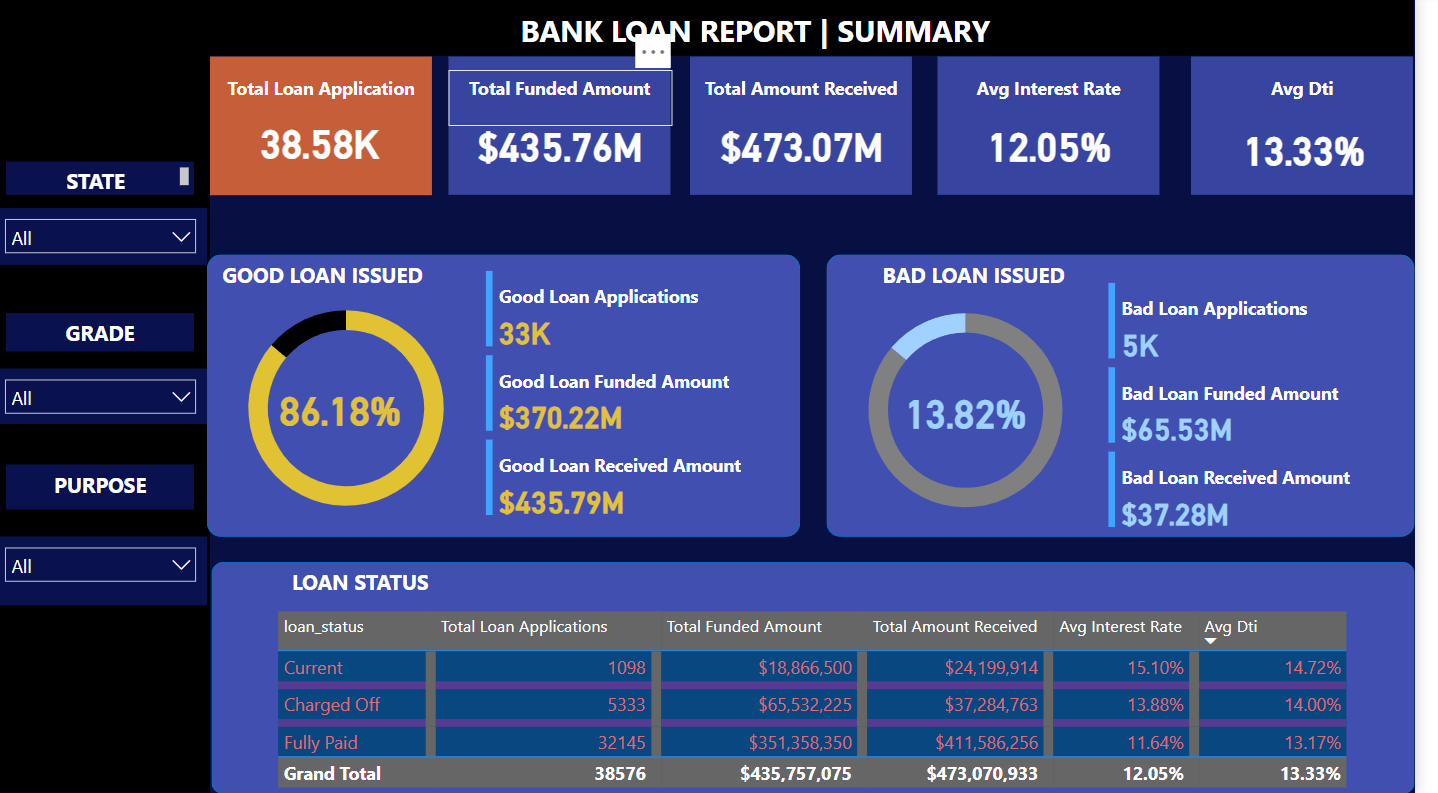

This screenshot's page, from the dashboard's own definition file:
{"tool":"powerbi","page":{"name":"Summary","canvas":[1280,720],"ordinal":0},"visuals":[{"type":"shape","box":[0,0,1279.4,54.8],"z":0},{"type":"shape","box":[3,53,192.3,666.3],"z":1000},{"type":"textbox","box":[453.5,7.6,463,47.2],"z":2000},{"type":"shape","box":[194.6,54.8,200,125],"z":3000},{"type":"card","fields":{"Values":["financial_loan (1).Total Loan Application"]},"box":[151.2,96.4,283.5,69.9],"z":4000},{"type":"textbox","box":[194.6,68,200.3,49.1],"z":5000},{"type":"shape","box":[410.1,54.8,200.3,124.7],"z":6000},{"type":"shape","box":[627.4,54.8,200.3,124.7],"z":7000},{"type":"shape","box":[850.4,54.8,200.3,124.7],"z":8000},{"type":"shape","box":[1079.1,54.8,200.3,124.7],"z":9000},{"type":"card","fields":{"Values":["financial_loan (1).Total Funded Amount"]},"box":[410.1,98.3,200.3,69.9],"z":10000},{"type":"card","fields":{"Values":["financial_loan (1).Total Amount Received"]},"box":[627.4,98.3,200.3,69.9],"z":11000},{"type":"card","fields":{"Values":["financial_loan (1).Avg Interest Rate"]},"box":[850.4,98.3,200.3,69.9],"z":12000},{"type":"card","fields":{"Values":["financial_loan (1).Avg Dti"]},"box":[1079.6,103,199.9,69.7],"z":13000},{"type":"textbox","box":[410.1,68,200.3,49.1],"z":14000},{"type":"textbox","box":[627.4,68,200.3,49.1],"z":15000},{"type":"textbox","box":[850.4,68,200.3,49.1],"z":16000},{"type":"textbox","box":[1079.1,68,200.3,49.1],"z":17000},{"type":"shape","box":[192.3,233.2,534.5,254.4],"z":18000},{"type":"shape","box":[749.5,233.2,530,254.4],"z":19000},{"type":"donutChart","fields":{"Category":["financial_loan (1).Good vs Bad Loan"],"Y":["financial_loan (1).Total Loan Applications"]},"box":[192.3,257.4,249.8,230.2],"z":20000},{"type":"card","fields":{"Values":["financial_loan (1).Good Loan %"]},"box":[245.3,336.2,133.3,69.7],"z":21000},{"type":"textbox","box":[860.1,78.7,190.8,48.5],"z":23000},{"type":"textbox","box":[195.3,233.2,199.9,42.4],"z":24000},{"type":"cardVisual","fields":{"Data":["financial_loan (1).Good Loan Applications","financial_loan (1).Good Loan Funded Amount","financial_loan (1).Good Loan Received Amount"]},"box":[437.6,243.8,275.6,231.7],"z":25000},{"type":"shape","box":[195.3,510.3,1084.2,209],"z":25500},{"type":"donutChart","fields":{"Category":["financial_loan (1).Good vs Bad Loan"],"Y":["financial_loan (1).Total Loan Applications"]},"box":[749.5,258.9,249.8,228.6],"z":26000},{"type":"cardVisual","fields":{"Data":["financial_loan (1).Bad Loan Applications","financial_loan (1).Bad Loan Funded Amount","financial_loan (1).Bad Loan Received Amount"]},"box":[999.4,254.4,275.6,231.7],"z":27000},{"type":"card","fields":{"Values":["financial_loan (1).Bad Loan %"]},"box":[808.6,339.2,133.3,69.7],"z":28000},{"type":"textbox","box":[749.5,233.2,265,42.4],"z":29000},{"type":"tableEx","fields":{"Values":["financial_loan (1).loan_status","financial_loan (1).Total Loan Applications","financial_loan (1).Total Funded Amount","financial_loan (1).Total Amount Received","financial_loan (1).Avg Interest Rate","financial_loan (1).Avg Dti"]},"box":[249.8,549.7,981.2,169.6],"z":30000},{"type":"textbox","box":[263.5,510.3,324,39.4],"z":30001},{"type":"slicer","fields":{"Values":["financial_loan (1).address_state"]},"box":[0,192.3,192.3,51.5],"z":30002},{"type":"textbox","box":[10.6,149.9,169.6,30.3],"z":30003},{"type":"slicer","fields":{"Values":["financial_loan (1).grade"]},"box":[0,336.2,192.3,50],"z":30004},{"type":"textbox","box":[10.6,286.2,169.6,34.8],"z":30005},{"type":"slicer","fields":{"Values":["financial_loan (1).purpose"]},"box":[0,487.6,192.3,62.1],"z":30006},{"type":"textbox","box":[10.6,422.5,169.6,40.9],"z":30007}]}

Visuals, with their boxes on the page's 1280x720 design canvas (x1, y1, x2, y2). These are canvas units, not pixel positions in the 1438x793 screenshot, which may show the page scaled, cropped or inside an application window:
shape: x1=0 y1=0 x2=1279 y2=55
shape: x1=3 y1=53 x2=195 y2=719
textbox: x1=454 y1=8 x2=916 y2=55
shape: x1=195 y1=55 x2=395 y2=180
card - financial_loan (1).Total Loan Application: x1=151 y1=96 x2=435 y2=166
textbox: x1=195 y1=68 x2=395 y2=117
shape: x1=410 y1=55 x2=610 y2=180
shape: x1=627 y1=55 x2=828 y2=180
shape: x1=850 y1=55 x2=1051 y2=180
shape: x1=1079 y1=55 x2=1279 y2=180
card - financial_loan (1).Total Funded Amount: x1=410 y1=98 x2=610 y2=168
card - financial_loan (1).Total Amount Received: x1=627 y1=98 x2=828 y2=168
card - financial_loan (1).Avg Interest Rate: x1=850 y1=98 x2=1051 y2=168
card - financial_loan (1).Avg Dti: x1=1080 y1=103 x2=1280 y2=173
textbox: x1=410 y1=68 x2=610 y2=117
textbox: x1=627 y1=68 x2=828 y2=117
textbox: x1=850 y1=68 x2=1051 y2=117
textbox: x1=1079 y1=68 x2=1279 y2=117
shape: x1=192 y1=233 x2=727 y2=488
shape: x1=750 y1=233 x2=1280 y2=488
donutChart - financial_loan (1).Good vs Bad Loan x financial_loan (1).Total Loan Applications: x1=192 y1=257 x2=442 y2=488
card - financial_loan (1).Good Loan %: x1=245 y1=336 x2=379 y2=406
textbox: x1=860 y1=79 x2=1051 y2=127
textbox: x1=195 y1=233 x2=395 y2=276
cardVisual - financial_loan (1).Good Loan Applications x financial_loan (1).Good Loan Funded Amount: x1=438 y1=244 x2=713 y2=476
shape: x1=195 y1=510 x2=1280 y2=719
donutChart - financial_loan (1).Good vs Bad Loan x financial_loan (1).Total Loan Applications: x1=750 y1=259 x2=999 y2=488
cardVisual - financial_loan (1).Bad Loan Applications x financial_loan (1).Bad Loan Funded Amount: x1=999 y1=254 x2=1275 y2=486
card - financial_loan (1).Bad Loan %: x1=809 y1=339 x2=942 y2=409
textbox: x1=750 y1=233 x2=1014 y2=276
tableEx - financial_loan (1).loan_status x financial_loan (1).Total Loan Applications: x1=250 y1=550 x2=1231 y2=719
textbox: x1=264 y1=510 x2=588 y2=550
slicer - financial_loan (1).address_state: x1=0 y1=192 x2=192 y2=244
textbox: x1=11 y1=150 x2=180 y2=180
slicer - financial_loan (1).grade: x1=0 y1=336 x2=192 y2=386
textbox: x1=11 y1=286 x2=180 y2=321
slicer - financial_loan (1).purpose: x1=0 y1=488 x2=192 y2=550
textbox: x1=11 y1=422 x2=180 y2=463
